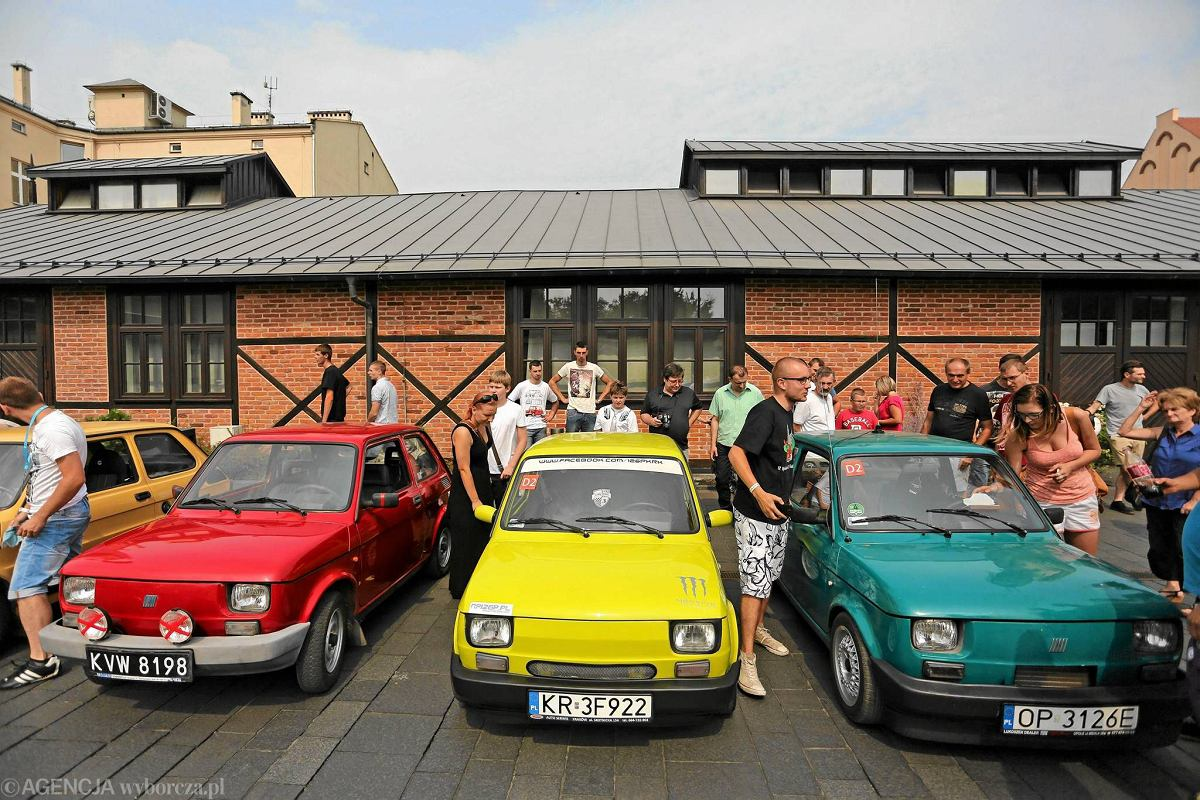number_plate: (1002, 702, 1141, 740), (527, 690, 654, 727)
